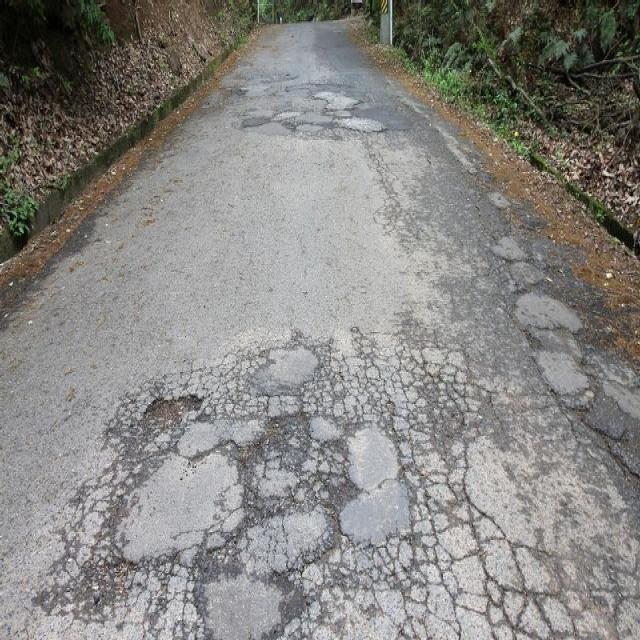Drain Hole: (332, 344, 562, 640)
